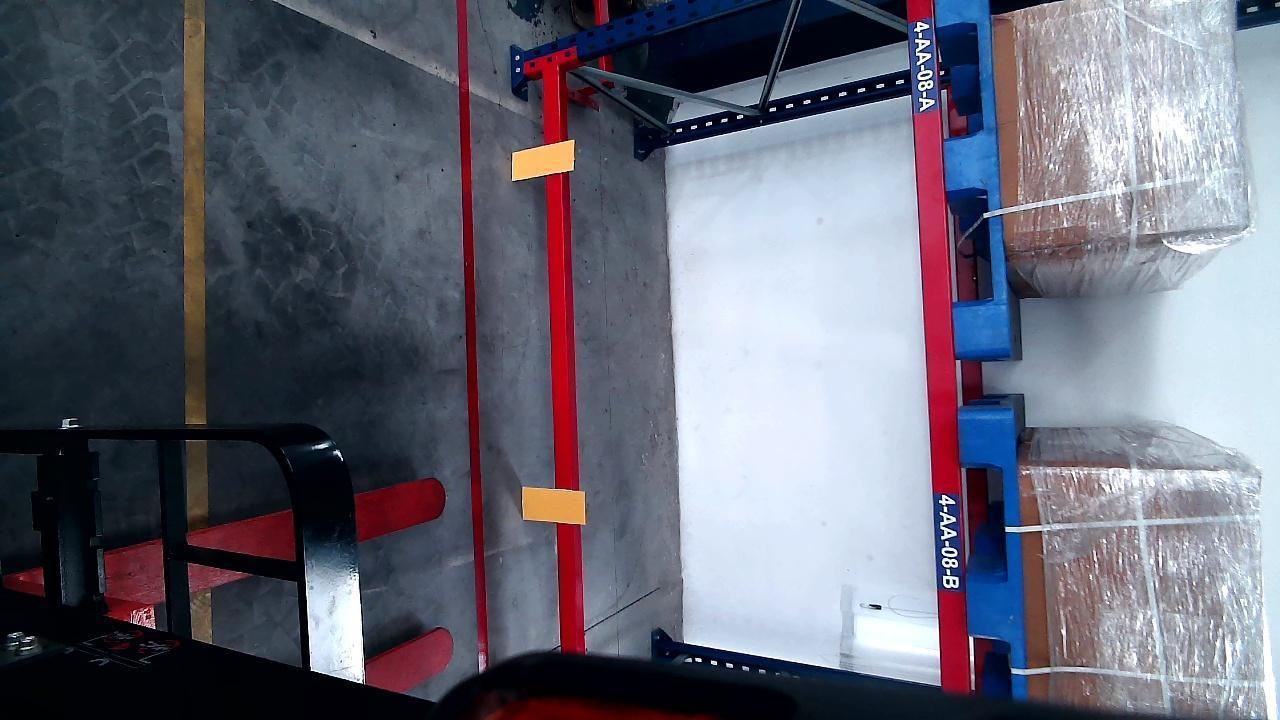h_rack: (907, 0, 969, 691), (544, 58, 581, 650)
orange_strip: (510, 141, 574, 180), (521, 487, 585, 524)
red_line: (455, 0, 489, 685)
small_pallet: (935, 0, 1014, 357), (962, 418, 1025, 696)
yellow_line: (181, 0, 208, 420)
